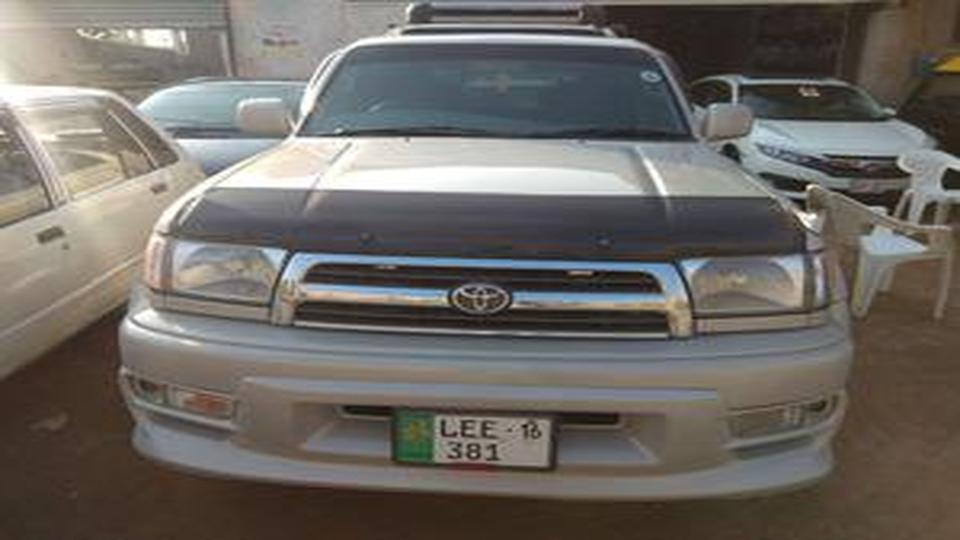NumberPlate: (390, 409, 565, 472)
